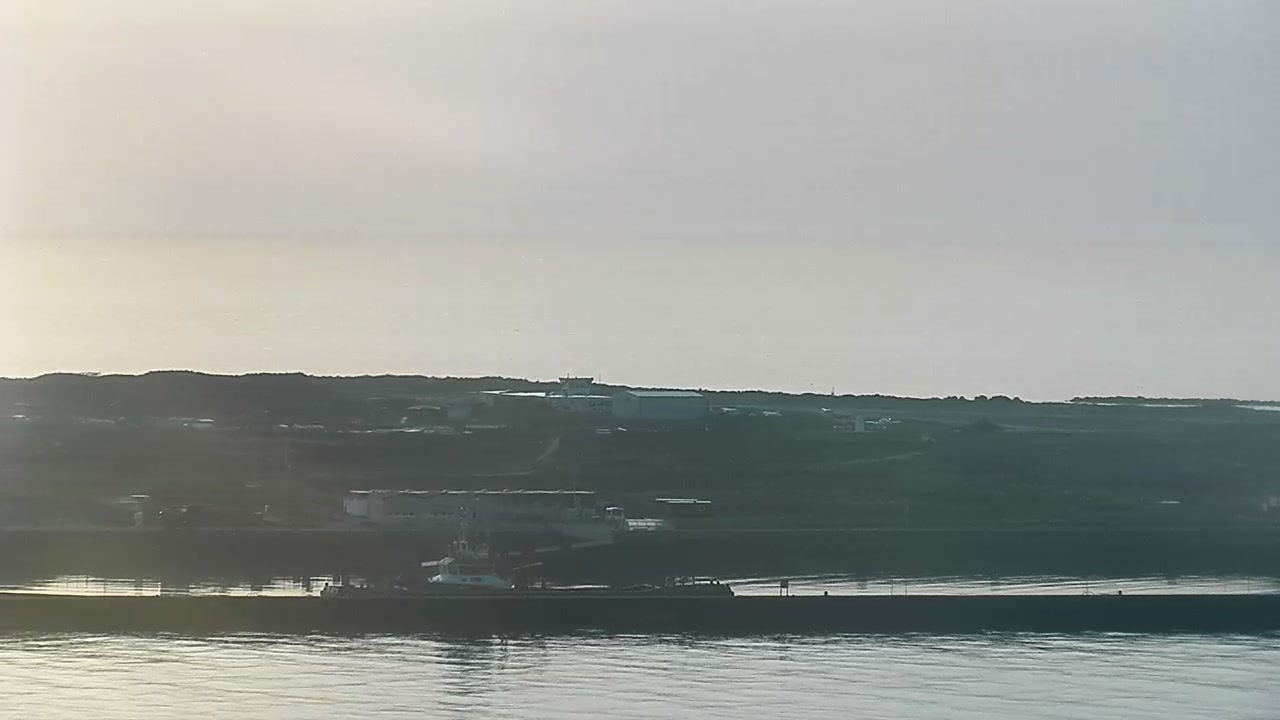sea: (316, 501, 733, 595)
